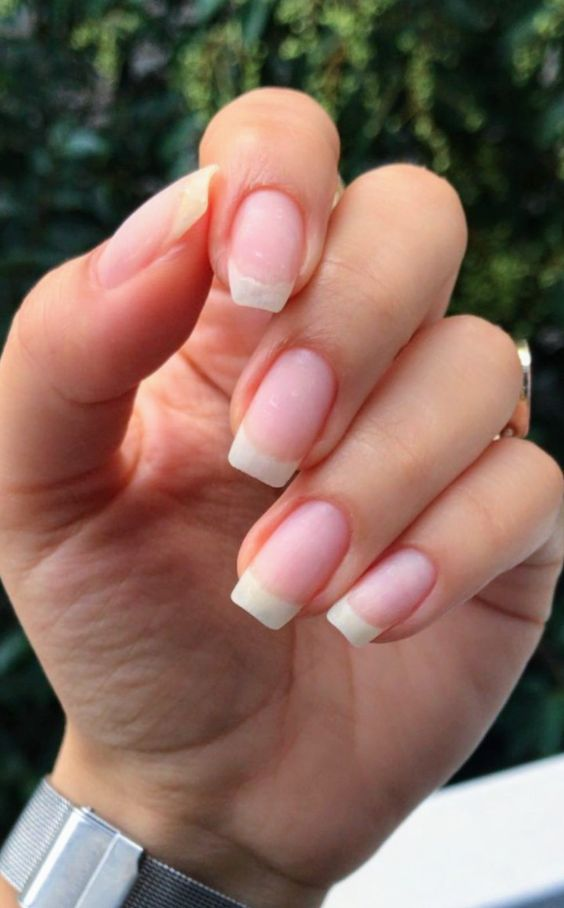nails: (213, 334, 340, 496), (218, 496, 354, 640), (83, 161, 221, 288), (210, 182, 326, 321), (318, 541, 448, 655)
